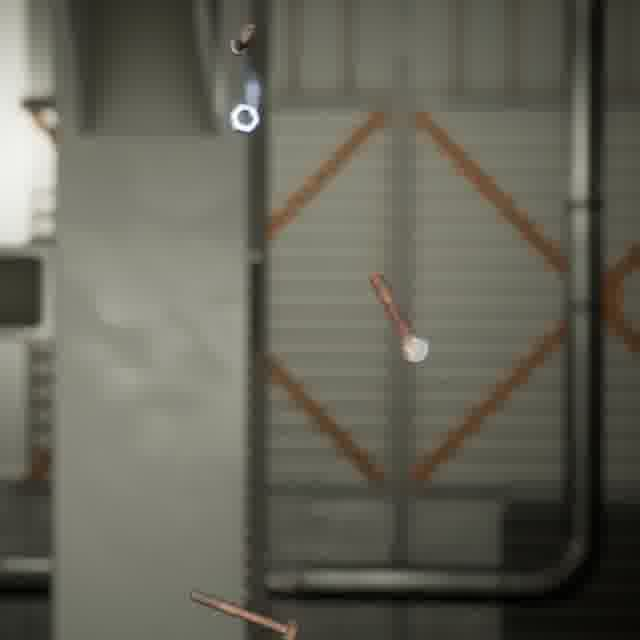bolt: (184, 583, 303, 640), (365, 268, 433, 367), (223, 18, 259, 61)
nut: (224, 98, 264, 138)
